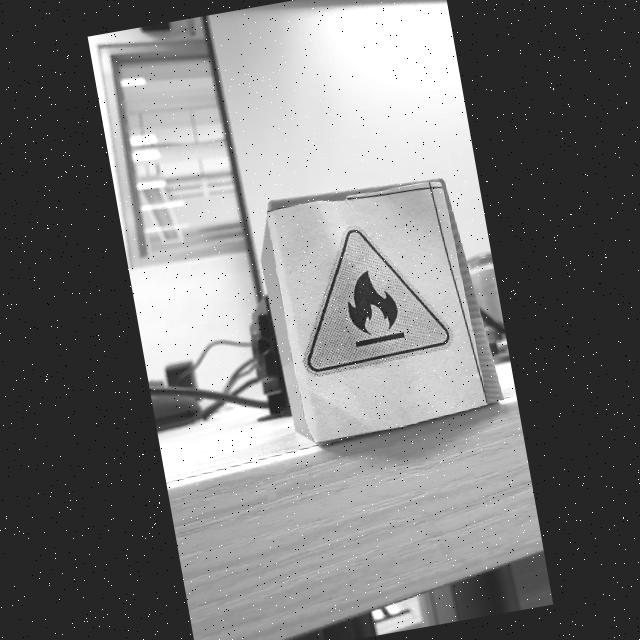Fire: (305, 230, 449, 373)
